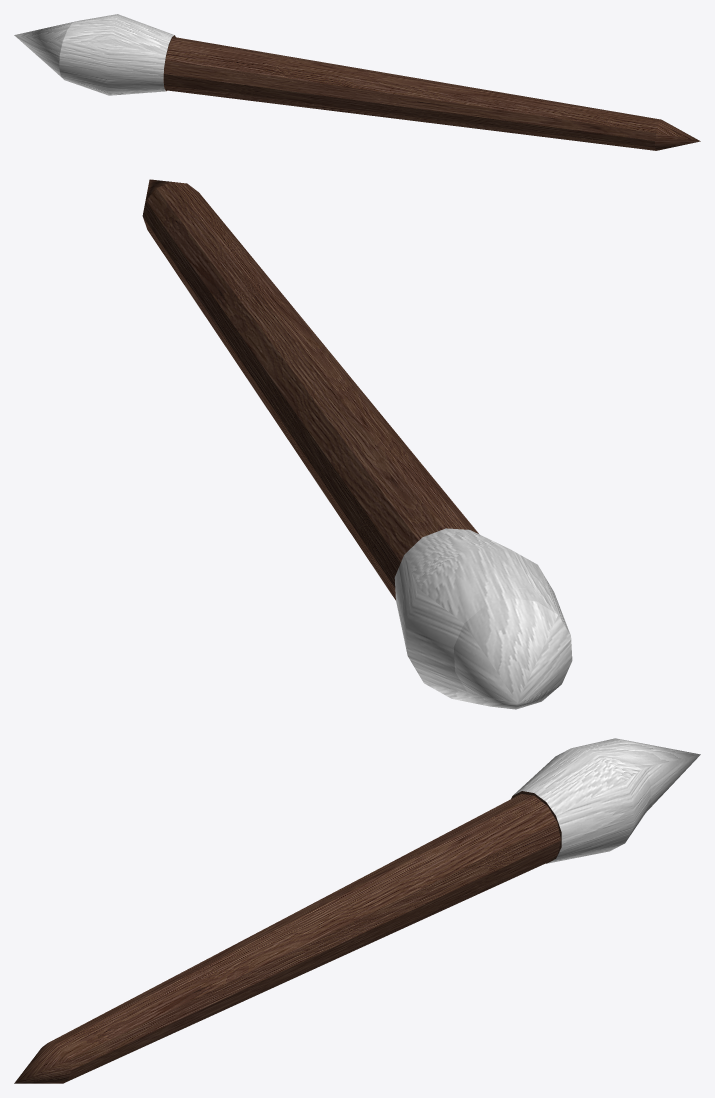
The model's file is Paintbrush.fbx.
The picture shows the model from 3 angles, top to bottom: view 1: azimuth 30°, elevation 25°; view 2: azimuth 150°, elevation 25°; view 3: azimuth 270°, elevation 25°; orthographic projection. The views are drawn at different scales.
Parts seen in each view (by area): view 1: Paintbrush; view 2: Paintbrush; view 3: Paintbrush.
Part boxes in pixels (x1,y1,x2,y2): Paintbrush: (14,14,700,150); Paintbrush: (142,179,572,709); Paintbrush: (14,738,700,1083).
Size of the model in its own units: 197 by 32.2 by 197.
Materials: 2 (2 with a texture image).
